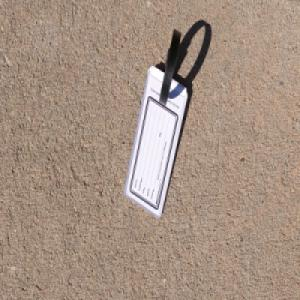LuggageTag: (123, 25, 189, 219)
